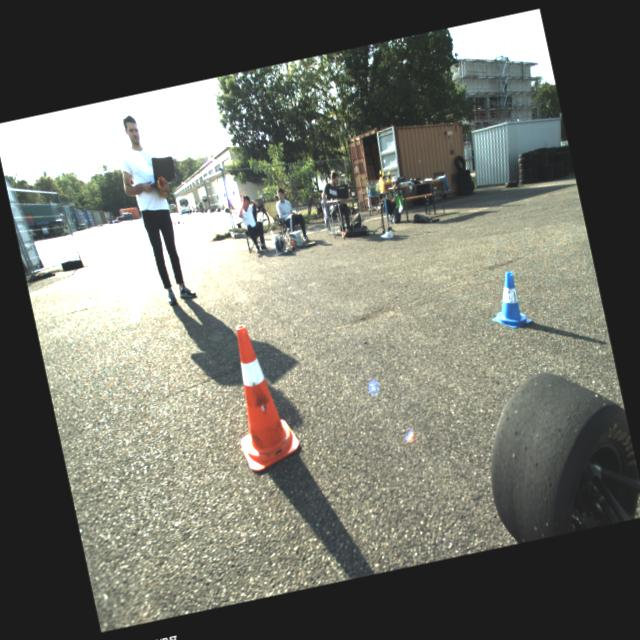blue_cone: (483, 268, 533, 332)
large_orange_cone: (216, 317, 302, 473)
yellow_cone: (376, 170, 384, 183), (384, 170, 392, 182), (379, 172, 386, 184)
